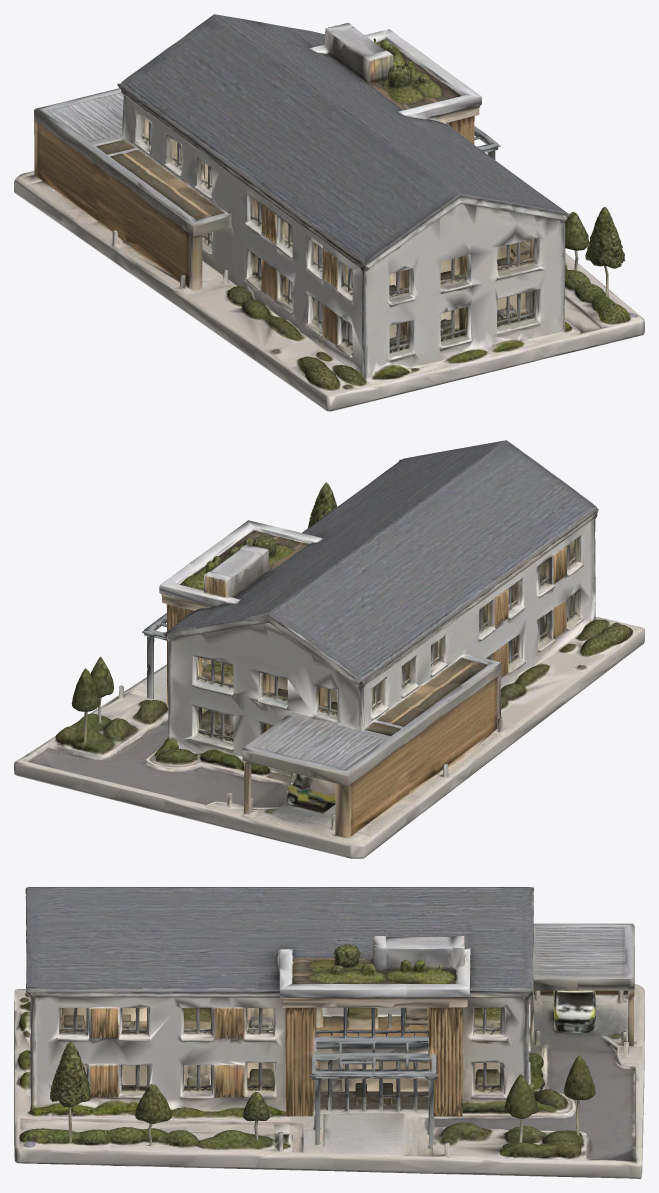
The model's file is b1-hospital.glb.
The picture shows the model from 3 angles, top to bottom: view 1: azimuth 30°, elevation 25°; view 2: azimuth 150°, elevation 25°; view 3: azimuth 270°, elevation 25°; orthographic projection. The views are drawn at different scales.
Visible parts, largest first — view 1: tripo_node_3b6cd116-da36-4da3-8204-a476ec04c7f0; view 2: tripo_node_3b6cd116-da36-4da3-8204-a476ec04c7f0; view 3: tripo_node_3b6cd116-da36-4da3-8204-a476ec04c7f0.
Boxes of the visible parts, bbox=[...] form: tripo_node_3b6cd116-da36-4da3-8204-a476ec04c7f0: bbox=[14, 14, 644, 411]; tripo_node_3b6cd116-da36-4da3-8204-a476ec04c7f0: bbox=[14, 440, 644, 858]; tripo_node_3b6cd116-da36-4da3-8204-a476ec04c7f0: bbox=[14, 887, 644, 1178].
Bounding box in the file's own units: 0.6663 × 0.3194 × 0.9795.
Materials: 1 (1 with a texture image).
